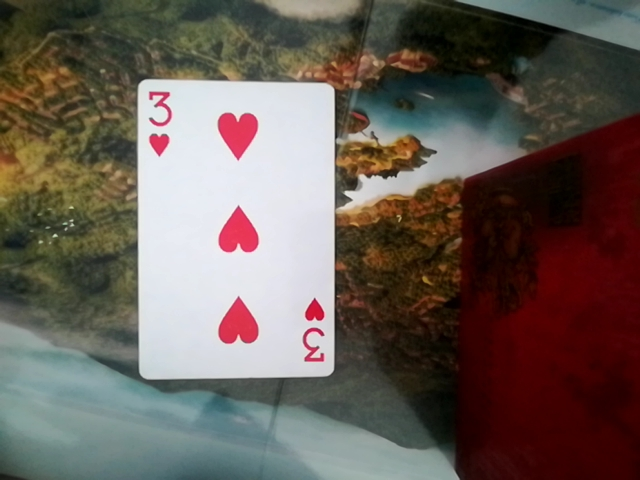hx 3: (129, 78, 345, 369)
